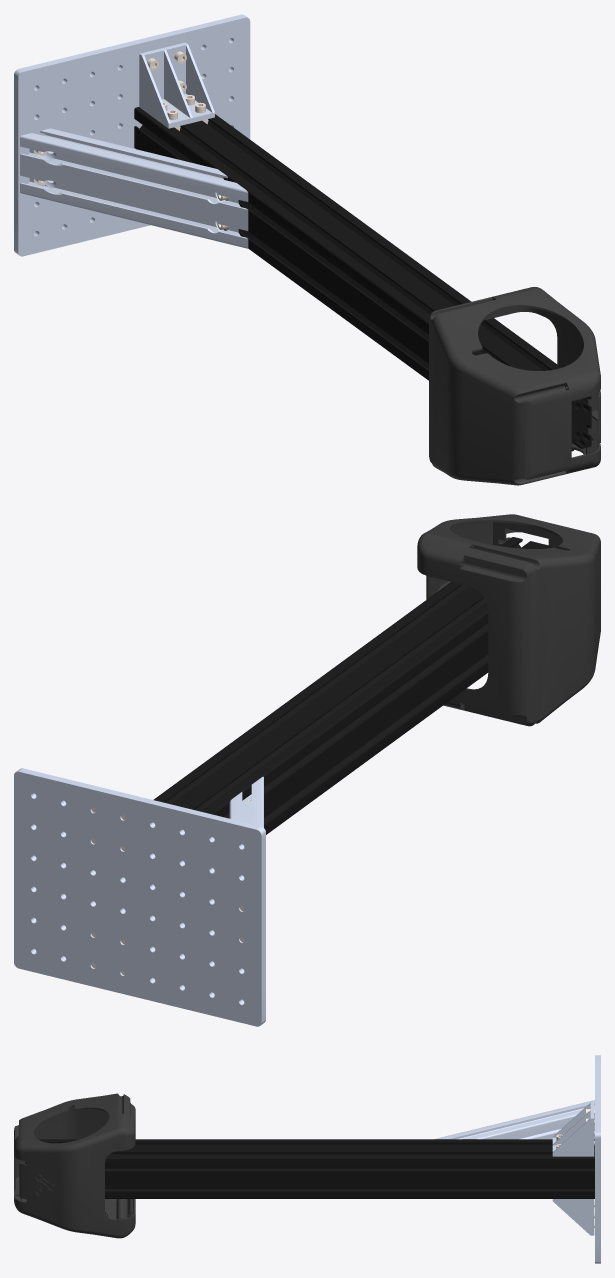
Rendered from body_link0.dae.
3 renders of one model, top to bottom at view 1: azimuth 30°, elevation 25°; view 2: azimuth 150°, elevation 25°; view 3: azimuth 270°, elevation 25°, orthographic. The views are drawn at different scales.
Visible parts, largest first — view 1: node19, node39, node38, node18, node16; view 2: node38, node19, node39, node18; view 3: node19, node39, node18, node16, node38, node17.
Boxes of the visible parts, x1,y1,x2,y2 form: node19: (134, 107, 591, 451); node39: (429, 287, 600, 485); node38: (14, 14, 250, 256); node18: (20, 128, 248, 248); node16: (139, 42, 214, 128); node38: (14, 768, 265, 1026); node19: (153, 537, 564, 834); node39: (417, 514, 600, 726); node18: (229, 776, 263, 827); node19: (25, 1139, 594, 1198); node39: (14, 1093, 135, 1238); node18: (434, 1100, 594, 1139); node16: (552, 1102, 594, 1156); node38: (595, 1055, 600, 1263); node17: (552, 1199, 594, 1235).
Bounding box in the file's own units: 0.25 × 0.19 × 0.773.
